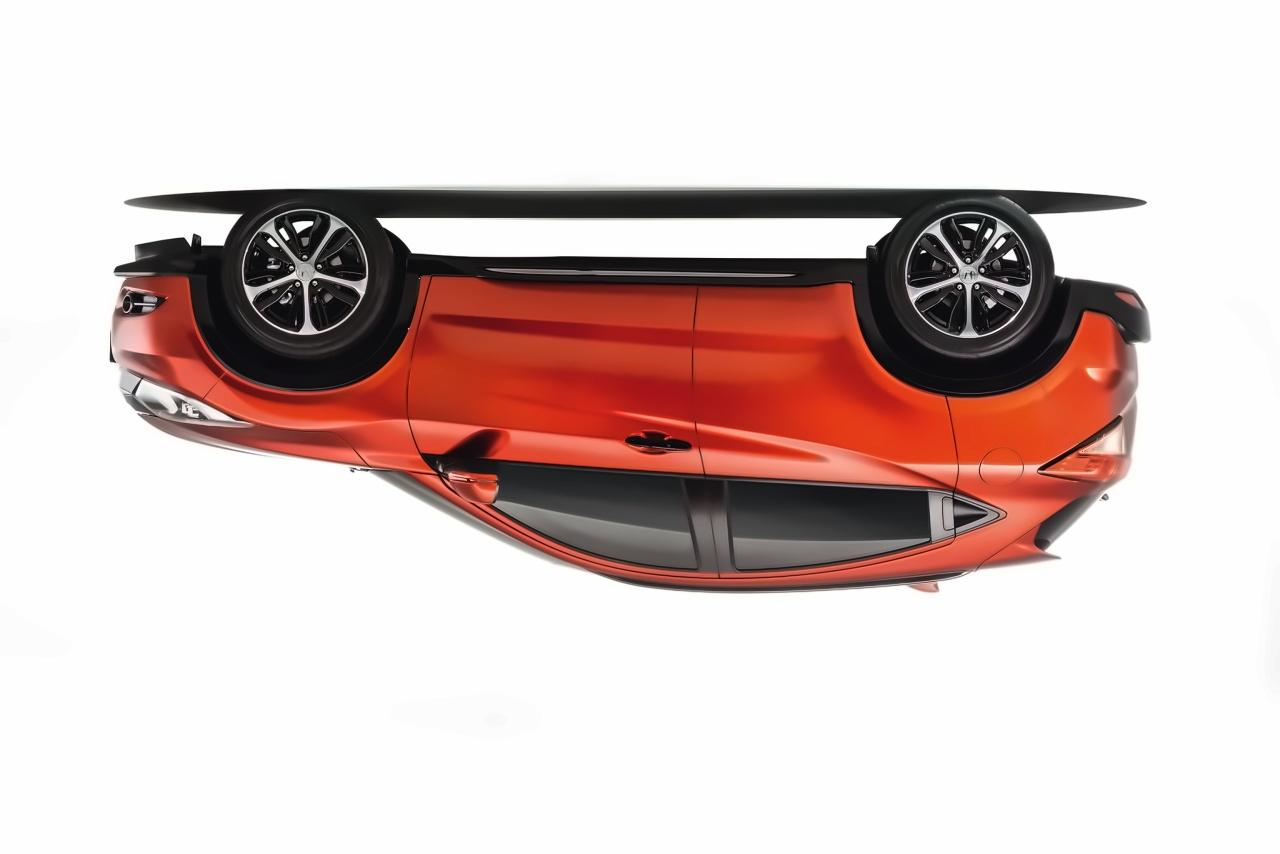Car hood: (134, 409, 372, 476)
Fender - -R-L-: (207, 270, 437, 479)
Front bumper: (100, 229, 226, 404)
Headlight - -R-: (126, 372, 256, 437)
